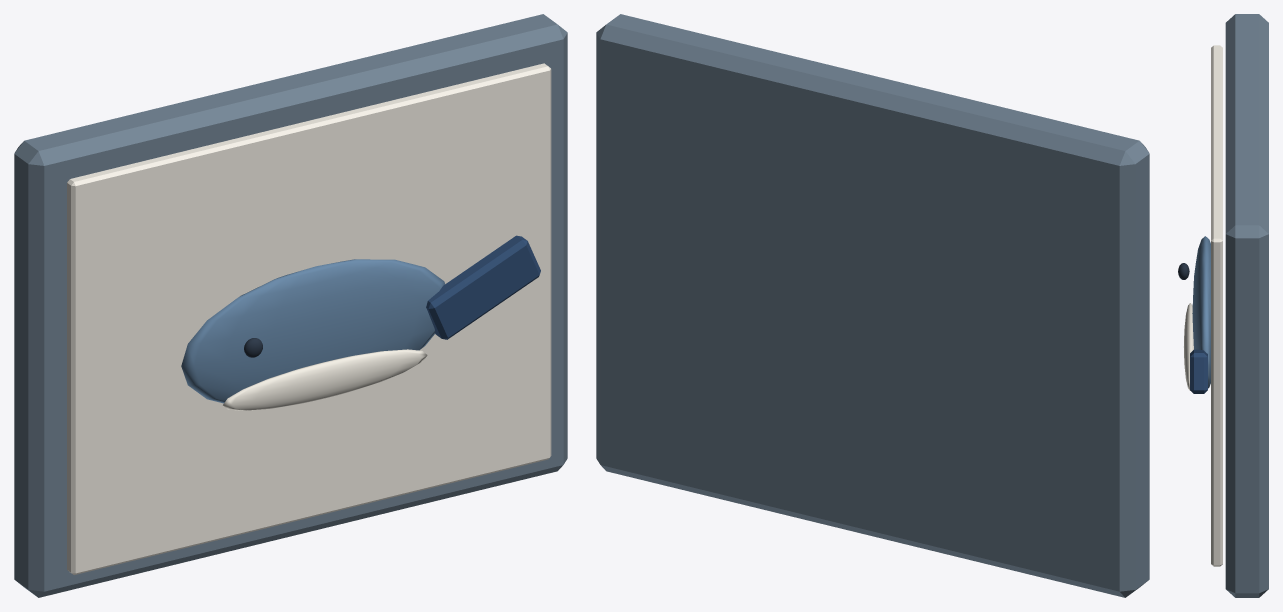
Rendered from decor_06.glb.
The picture shows the model from 3 angles, left to right: view 1: azimuth 30°, elevation 25°; view 2: azimuth 150°, elevation 25°; view 3: azimuth 270°, elevation 25°; orthographic projection. The views are drawn at different scales.
Parts seen in each view (by area): view 1: PicturePaper, PictureFrame, WhaleArt, WhaleArtBelly, WhaleArtTail; view 2: PictureFrame; view 3: PictureFrame, PicturePaper, WhaleArt, WhaleArtTail, WhaleArtBelly, WhaleEye.
Part boxes in pixels (left/top/right/bottom): PicturePaper: left=67, top=63, right=551, bottom=574; PictureFrame: left=14, top=14, right=567, bottom=597; WhaleArt: left=181, top=259, right=444, bottom=403; WhaleArtBelly: left=223, top=349, right=427, bottom=410; WhaleArtTail: left=426, top=235, right=540, bottom=339; PictureFrame: left=596, top=14, right=1149, bottom=597; PictureFrame: left=1225, top=14, right=1268, bottom=597; PicturePaper: left=1211, top=45, right=1222, bottom=566; WhaleArt: left=1192, top=236, right=1210, bottom=388; WhaleArtTail: left=1190, top=349, right=1207, bottom=393; WhaleArtBelly: left=1184, top=303, right=1193, bottom=390; WhaleEye: left=1178, top=263, right=1189, bottom=279.
Bounding box in the file's own units: 0.72 × 0.57 × 0.126.
